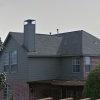Chimney: (22, 16, 41, 58)
